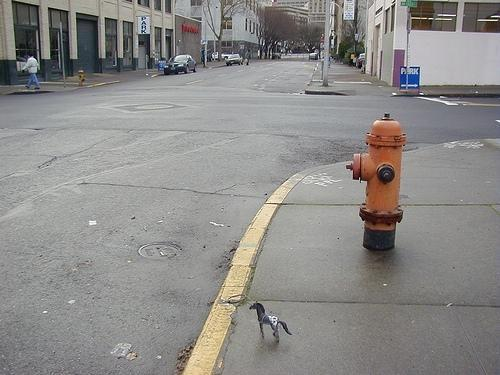car: (164, 55, 198, 74), (226, 54, 244, 66), (208, 53, 226, 63), (220, 52, 239, 60)
